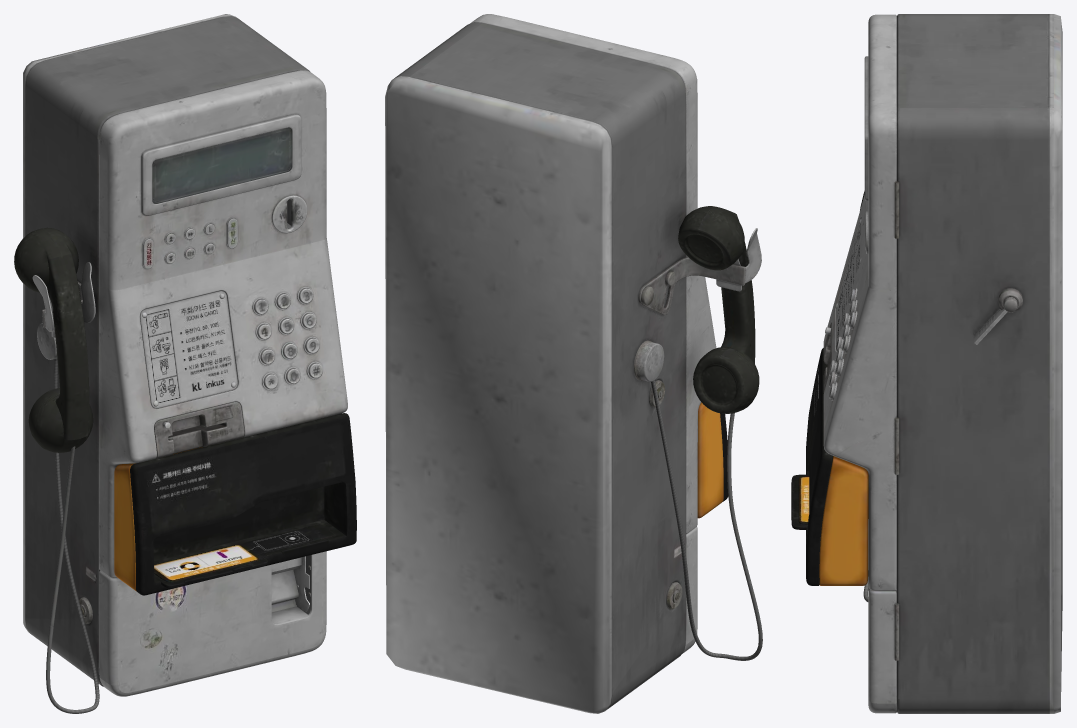
File: korean_public_payphone_01.glb
The picture shows the model from 3 angles, left to right: view 1: azimuth 30°, elevation 25°; view 2: azimuth 150°, elevation 25°; view 3: azimuth 270°, elevation 25°; orthographic projection. The views are drawn at different scales.
Parts seen in each view (by area): view 1: korean_public_payphone_01; view 2: korean_public_payphone_01; view 3: korean_public_payphone_01.
Boxes of the visible parts, <box> form: korean_public_payphone_01: <box>14,14,356,713</box>; korean_public_payphone_01: <box>385,14,762,713</box>; korean_public_payphone_01: <box>791,14,1062,713</box>.
Size of the model in its own units: 0.4005 by 0.7397 by 0.3005.
Materials: 1 (1 with a texture image).
